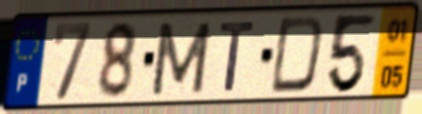5: (323, 12, 380, 95)
7: (50, 19, 95, 104)
8: (95, 19, 141, 101)
D: (267, 13, 327, 96)
M: (148, 19, 214, 98)
T: (217, 18, 259, 94)
